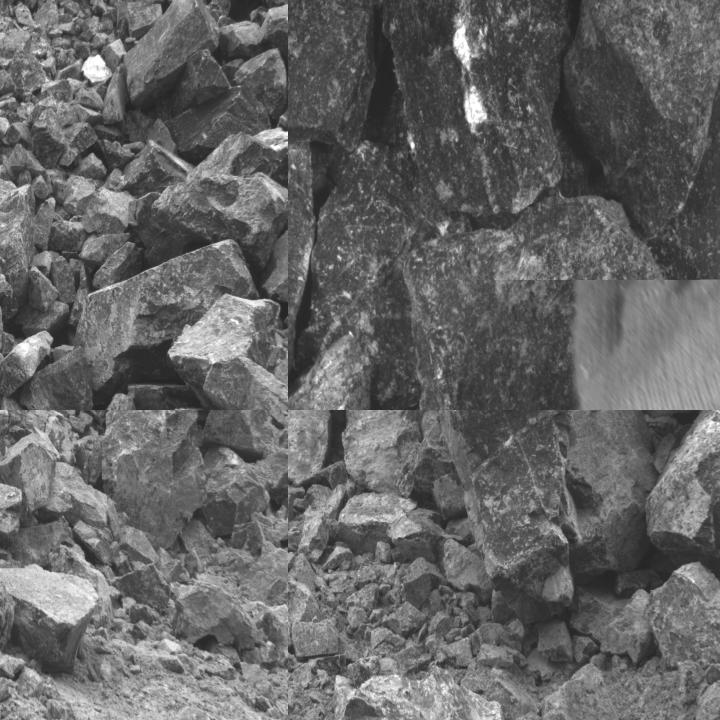stone: (397, 196, 661, 409), (309, 142, 471, 407), (381, 0, 572, 218), (562, 0, 719, 240), (414, 410, 574, 628), (465, 410, 661, 578), (79, 244, 256, 406), (128, 173, 287, 270), (288, 0, 384, 151), (100, 410, 205, 547), (166, 292, 282, 410), (646, 410, 719, 586), (173, 48, 286, 160), (123, 0, 220, 111), (0, 564, 93, 677), (288, 124, 325, 385), (647, 561, 719, 686), (367, 662, 522, 719), (322, 410, 428, 491), (202, 445, 272, 539), (307, 680, 462, 719), (196, 129, 287, 192), (0, 429, 58, 520), (175, 588, 262, 647), (333, 492, 417, 552), (43, 461, 113, 531), (170, 48, 241, 115), (0, 182, 36, 313), (20, 346, 94, 409), (539, 664, 623, 719), (203, 356, 287, 409), (598, 590, 654, 667), (408, 410, 454, 500), (201, 410, 281, 461), (122, 138, 194, 194), (6, 410, 79, 465), (288, 410, 339, 488), (0, 330, 53, 400), (387, 502, 441, 566), (440, 538, 492, 602), (11, 519, 74, 567), (113, 564, 171, 615), (260, 223, 287, 317), (71, 517, 116, 572), (31, 108, 69, 170), (8, 49, 54, 100), (85, 188, 135, 234), (256, 3, 287, 64), (260, 600, 287, 668), (292, 621, 338, 659), (257, 443, 287, 500), (298, 510, 330, 562), (75, 429, 104, 486), (537, 621, 575, 664), (382, 602, 428, 636), (0, 482, 22, 546), (402, 558, 431, 606), (33, 0, 59, 47), (346, 583, 378, 618), (695, 677, 719, 719), (490, 590, 515, 622), (66, 410, 95, 437), (276, 89, 287, 155), (76, 410, 108, 426), (43, 410, 76, 417), (25, 0, 43, 10)
